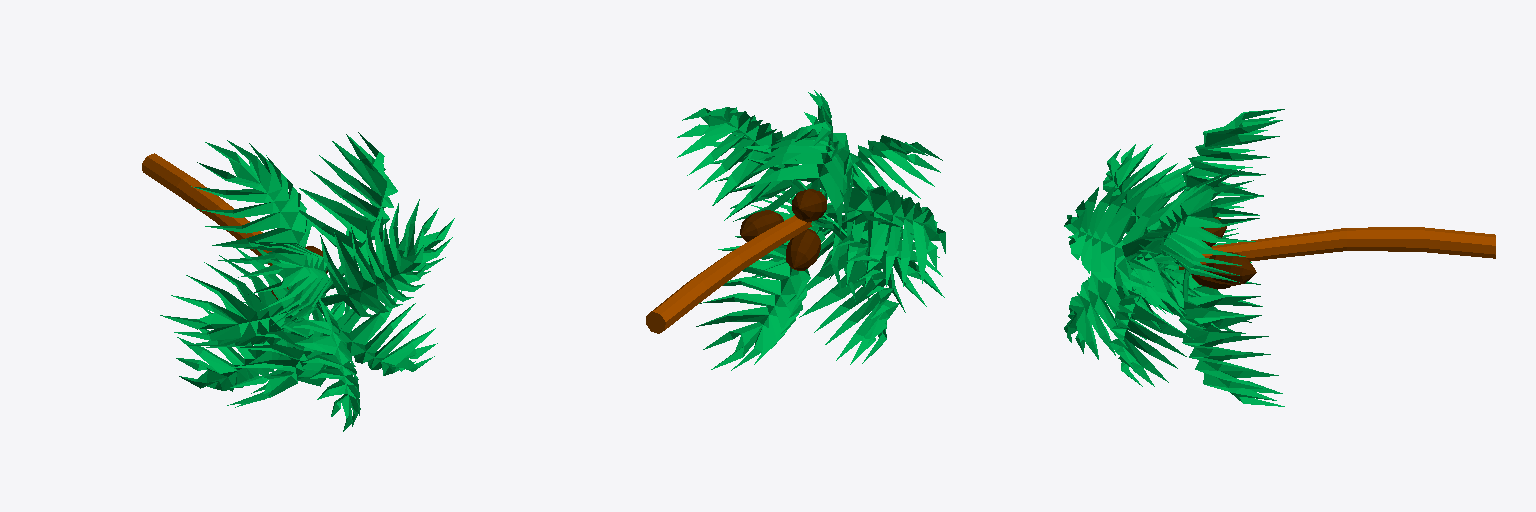
File: palma.obj
3 views of the same model, side by side, from view 1: azimuth 30°, elevation 25°; view 2: azimuth 150°, elevation 25°; view 3: azimuth 270°, elevation 25° (orthographic).
Parts seen in each view (by area): view 1: leafs, trunk; view 2: leafs, trunk, coc; view 3: leafs, trunk, coc.
Part boxes in pixels (left/top/right/bottom): leafs: left=160, top=132, right=454, bottom=431; trunk: left=142, top=153, right=272, bottom=265; leafs: left=677, top=90, right=945, bottom=370; trunk: left=646, top=215, right=811, bottom=333; coc: left=740, top=189, right=826, bottom=270; leafs: left=1064, top=109, right=1284, bottom=406; trunk: left=1179, top=227, right=1495, bottom=269; coc: left=1191, top=217, right=1256, bottom=289.
Bounding box in the file's own units: 3.05 × 2.65 × 4.15.